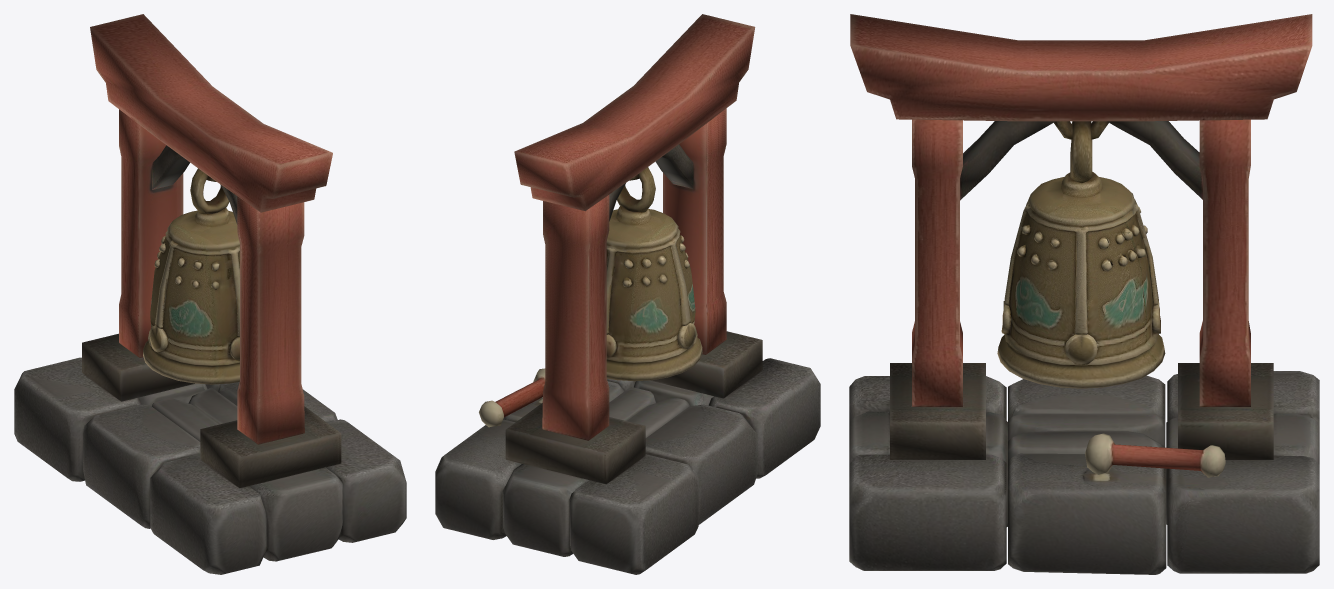
The model's file is tripo_convert_594fc8c9-9171-4359-95db-0c1d56223db6.fbx.
3 renders of one model, left to right at view 1: azimuth 30°, elevation 25°; view 2: azimuth 150°, elevation 25°; view 3: azimuth 270°, elevation 25°, orthographic. The views are drawn at different scales.
Parts seen in each view (by area): view 1: tripo_node_594fc8c9; view 2: tripo_node_594fc8c9; view 3: tripo_node_594fc8c9.
Boxes of the visible parts, x1,y1,x2,y2 form: tripo_node_594fc8c9: [14, 14, 406, 574]; tripo_node_594fc8c9: [435, 14, 820, 574]; tripo_node_594fc8c9: [849, 14, 1319, 574].
Bounding box in the file's own units: 0.5566 × 0.998 × 0.8809.
Materials: 1 (1 with a texture image).
